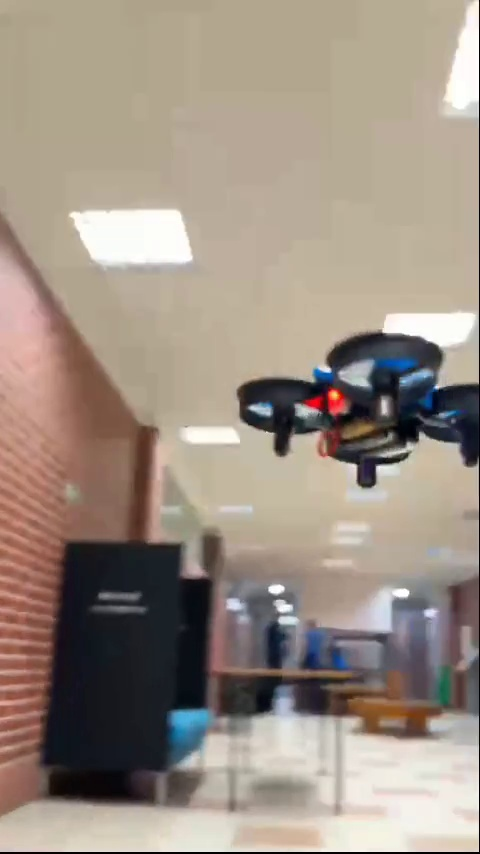drone: (240, 326, 480, 490)
no vest: (301, 620, 326, 672), (265, 620, 292, 666)
